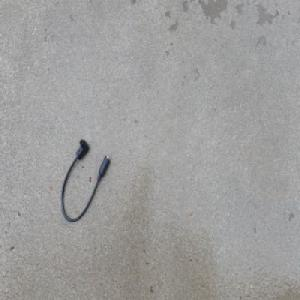Wire: (59, 136, 111, 223)
